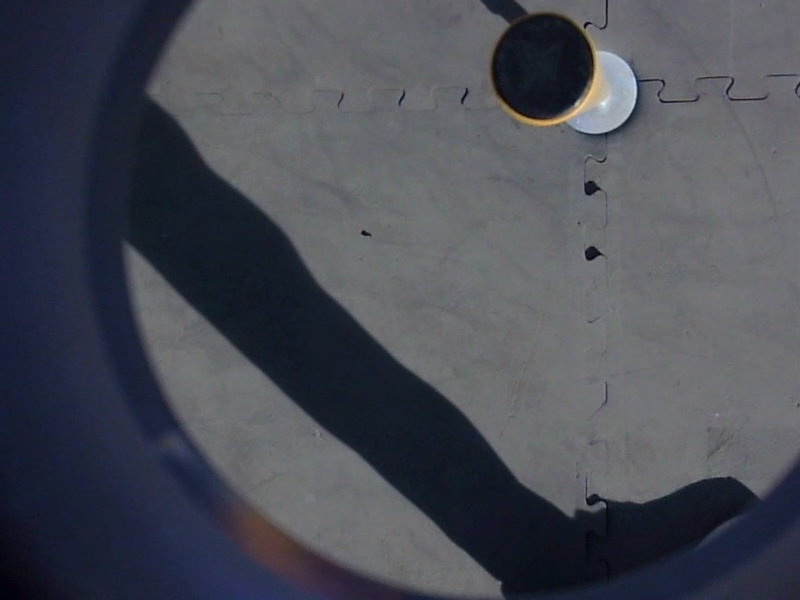tip: (477, 8, 604, 135)
